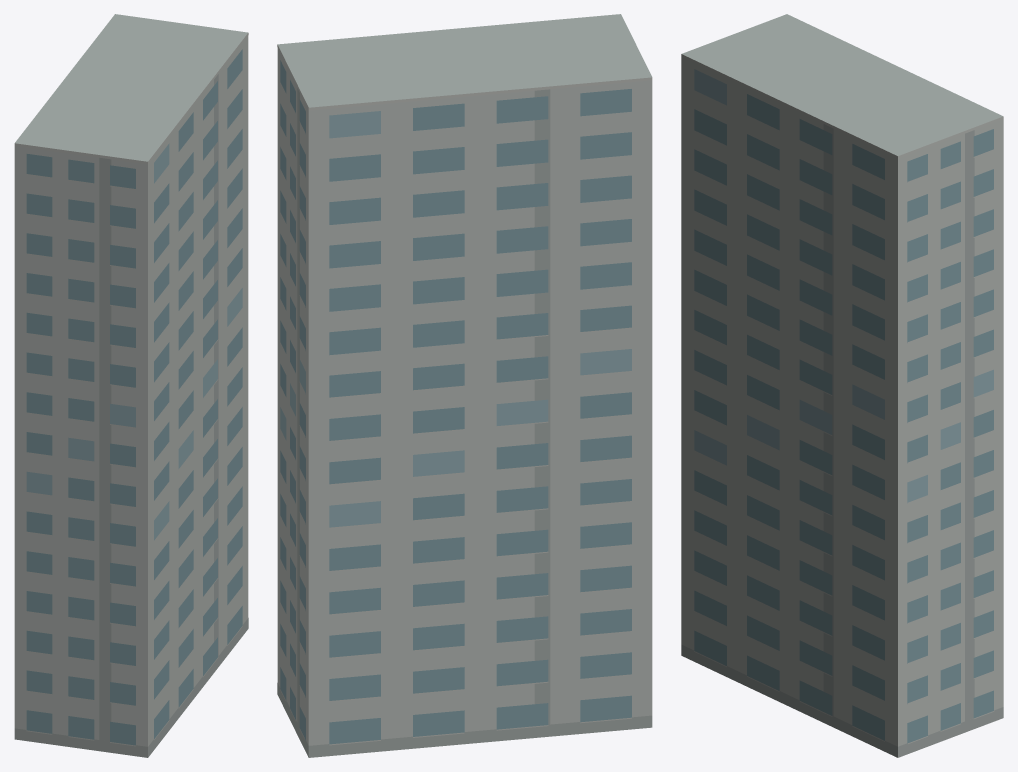
Rendered from residential-771baacd-4a1d-4e61-8895-65c7d7a24c1e.glb.
3 renders of one model, left to right at view 1: azimuth 30°, elevation 25°; view 2: azimuth 150°, elevation 25°; view 3: azimuth 270°, elevation 25°, orthographic. The views are drawn at different scales.
Visible parts, largest first — view 1: residential-771baacd-4a1d-4e61-8895-65c7d7a24c1e.tmp; view 2: residential-771baacd-4a1d-4e61-8895-65c7d7a24c1e.tmp; view 3: residential-771baacd-4a1d-4e61-8895-65c7d7a24c1e.tmp.
Part boxes in pixels (bbox=[...]): residential-771baacd-4a1d-4e61-8895-65c7d7a24c1e.tmp: bbox=[14, 14, 248, 757]; residential-771baacd-4a1d-4e61-8895-65c7d7a24c1e.tmp: bbox=[277, 14, 652, 757]; residential-771baacd-4a1d-4e61-8895-65c7d7a24c1e.tmp: bbox=[681, 14, 1003, 757].
Size of the model in its own units: 27.39 by 54 by 26.21.
